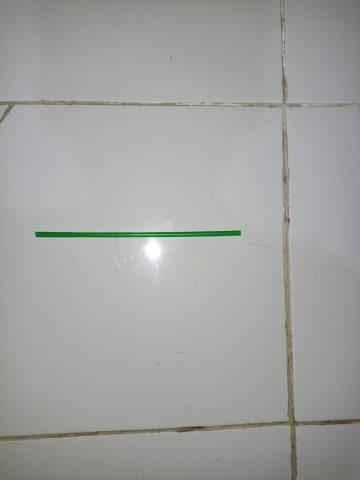sedotan: (35, 229, 242, 238)
